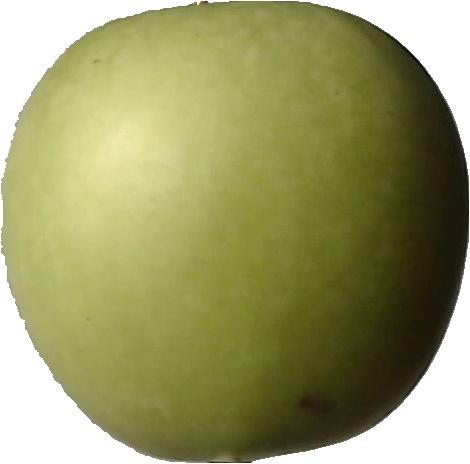Apple Unripe: (0, 3, 470, 464)
